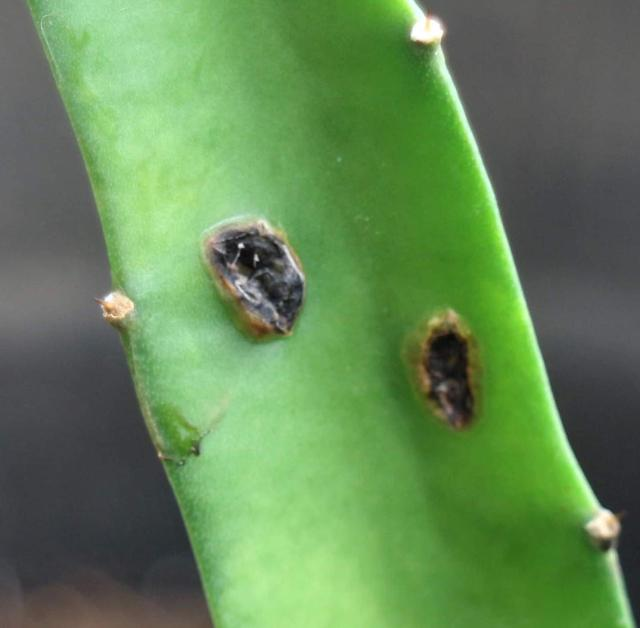stemcanker: (199, 212, 311, 342), (401, 303, 483, 435)
